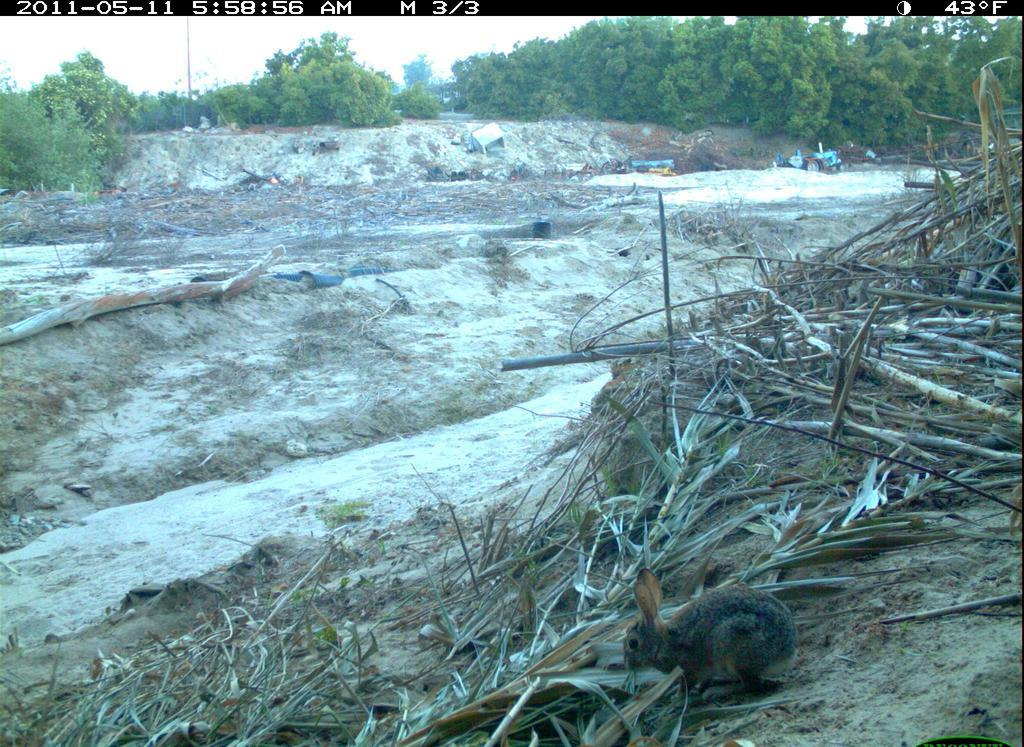rabbit: (620, 562, 804, 710)
